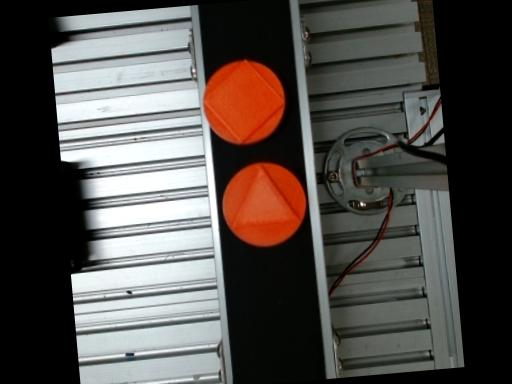Not_Square: (230, 161, 300, 225)
Orange_Waper: (203, 59, 284, 143), (222, 163, 304, 244)
Square: (200, 57, 285, 141)
